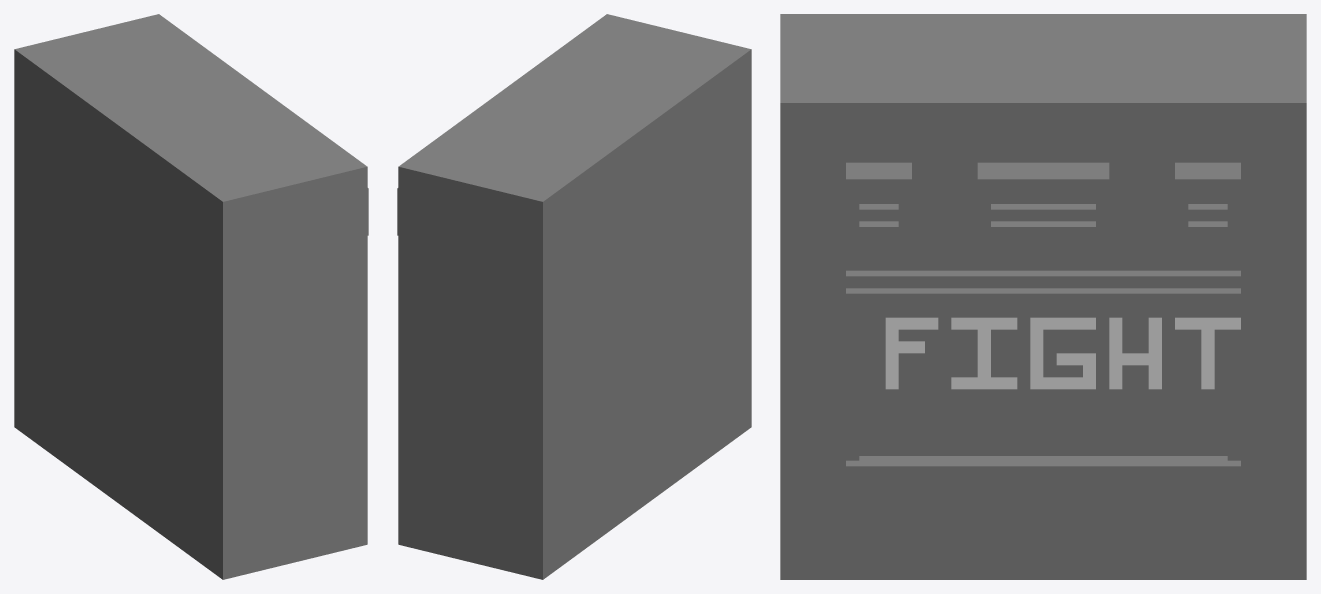
Rendered from Test Wall.obj.
The picture shows the model from 3 angles, left to right: view 1: azimuth 30°, elevation 25°; view 2: azimuth 150°, elevation 25°; view 3: azimuth 270°, elevation 25°; orthographic projection. The views are drawn at different scales.
Parts seen in each view (by area): view 1: Test Wall; view 2: Test Wall; view 3: Test Wall.
Boxes of the visible parts, x1,y1,x2,y2 form: Test Wall: (14,14,368,579); Test Wall: (397,14,751,579); Test Wall: (780,14,1306,579).
Size of the model in its own units: 19 by 40 by 40.
Materials: 1 (1 with a texture image).
